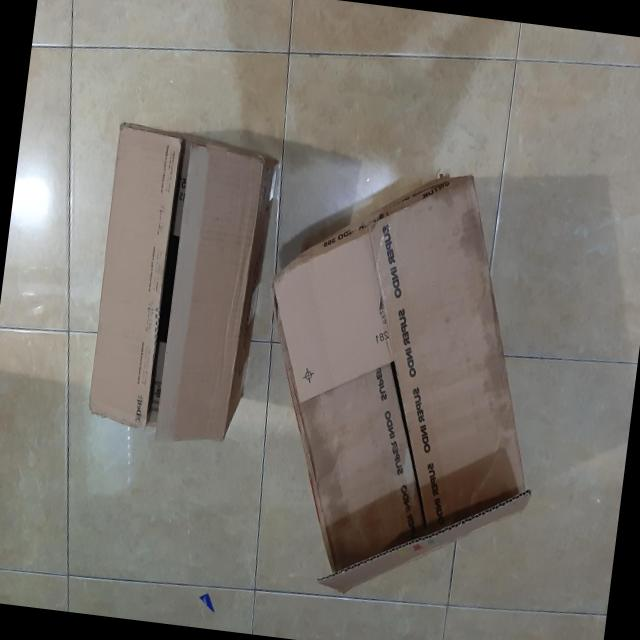Kardus: (234, 152, 568, 616), (80, 121, 282, 454)
